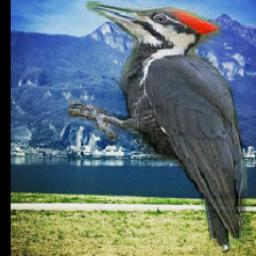Woodpecker: (67, 1, 256, 254)
